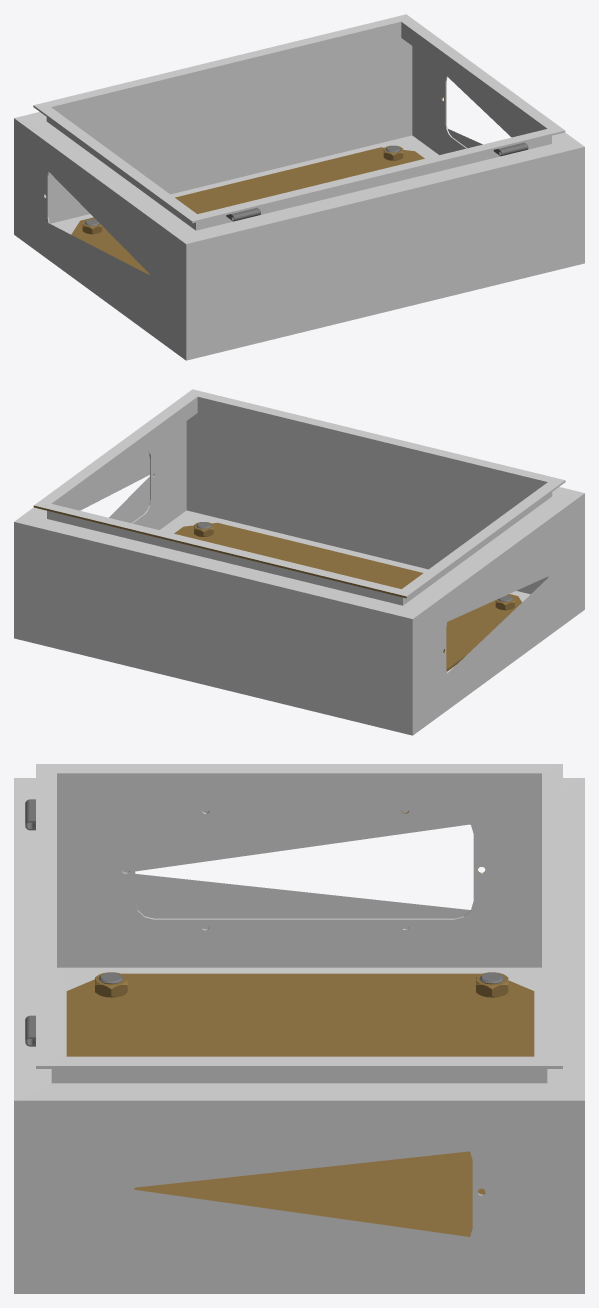
3 renders of one model, top to bottom at view 1: azimuth 30°, elevation 25°; view 2: azimuth 150°, elevation 25°; view 3: azimuth 270°, elevation 25°, orthographic. The views are drawn at different scales.
Visible parts, largest first — view 1: Box; view 2: Box; view 3: Box.
Boxes of the visible parts, x1=… form: Box: x1=14, y1=14, x2=584, y2=360; Box: x1=14, y1=389, x2=584, y2=735; Box: x1=14, y1=764, x2=584, y2=1293.
Bounding box in the file's own units: 3012 × 982 × 2252.
